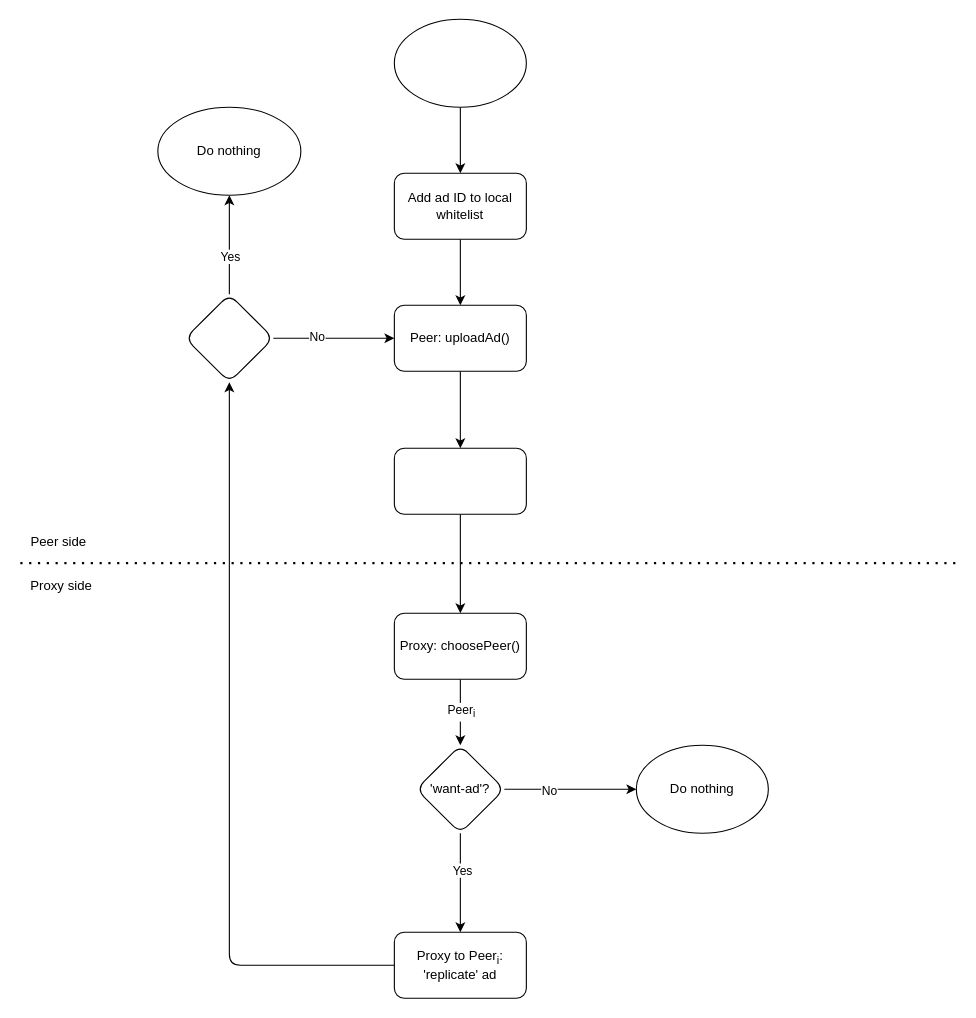
Image size: 976x1018. Some labels were removed from this diagram. The shapes that lost their labels are listed below. From the top down, each one's centre as x and y in pixels, then its label:
At point 459,62: "User uploads ad".
At point 228,337: "ID on blacklist?".
At point 459,480: "Peer to Proxy: 'give-ad'".
